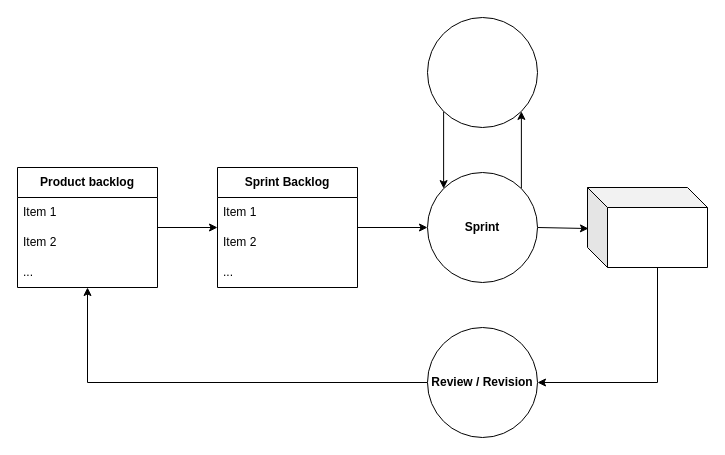
The diagram is 725 pixels wide and 455 high, and some of its shapes have lost their labels. The shapes that lost their labels are listed below. From the top down, each one's box as (x1, y1, x2, y2) in pixels, then its label:
(426, 16, 538, 128): Daily / Weekly Sprint Review
(586, 186, 708, 268): Incremental Sprint Product
